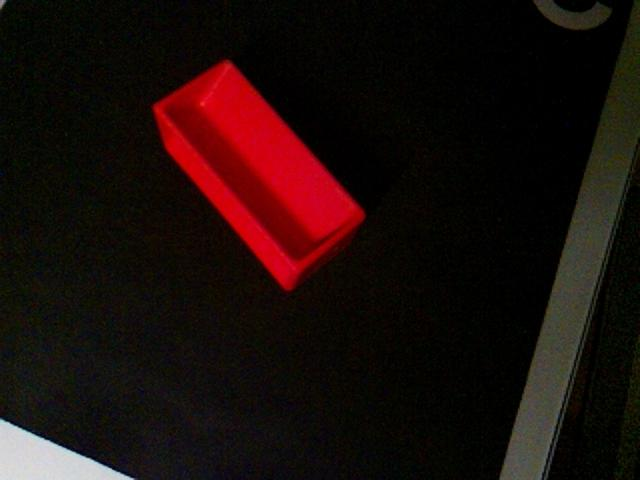red: (151, 57, 368, 292)
